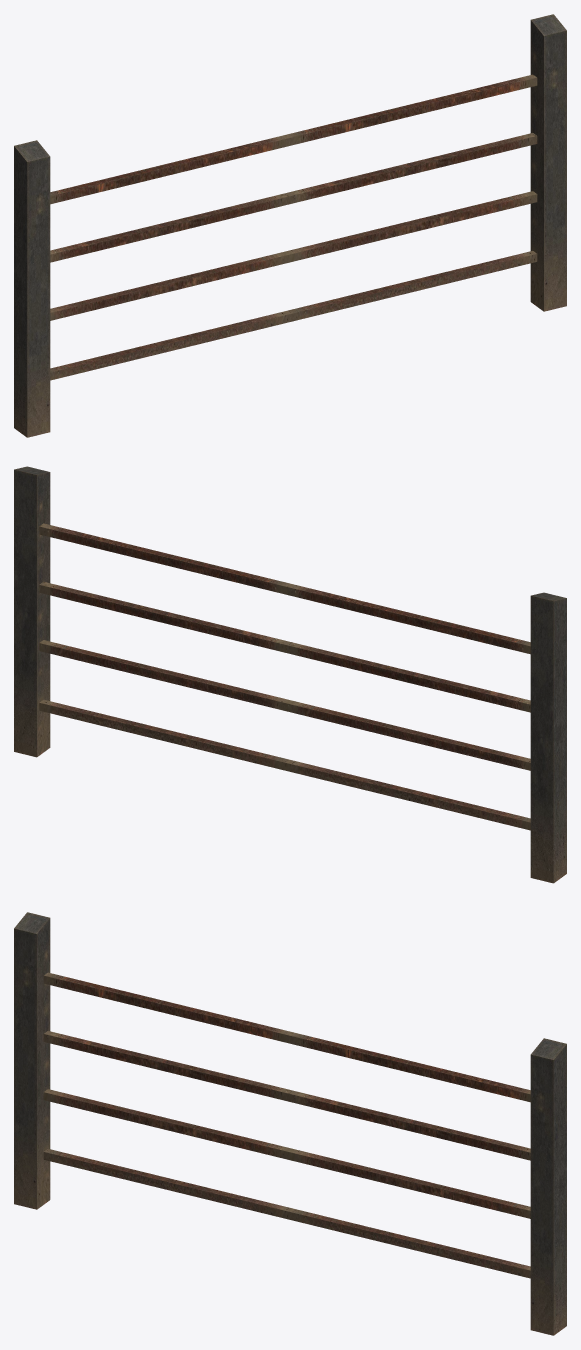
The model's file is DesertBarrier 4 (Dark).glb.
3 renders of one model, top to bottom at view 1: azimuth 30°, elevation 25°; view 2: azimuth 150°, elevation 25°; view 3: azimuth 330°, elevation 25°, orthographic.
Parts seen in each view (by area): view 1: var3_var3_0.004; view 2: var3_var3_0.004; view 3: var3_var3_0.004.
Part boxes in pixels (<box>): var3_var3_0.004: <box>14,14,566,437</box>; var3_var3_0.004: <box>14,466,566,883</box>; var3_var3_0.004: <box>14,912,566,1335</box>.
Bounding box in the file's own units: 2.93 × 1.46 × 0.125.
Materials: 1 (1 with a texture image).
